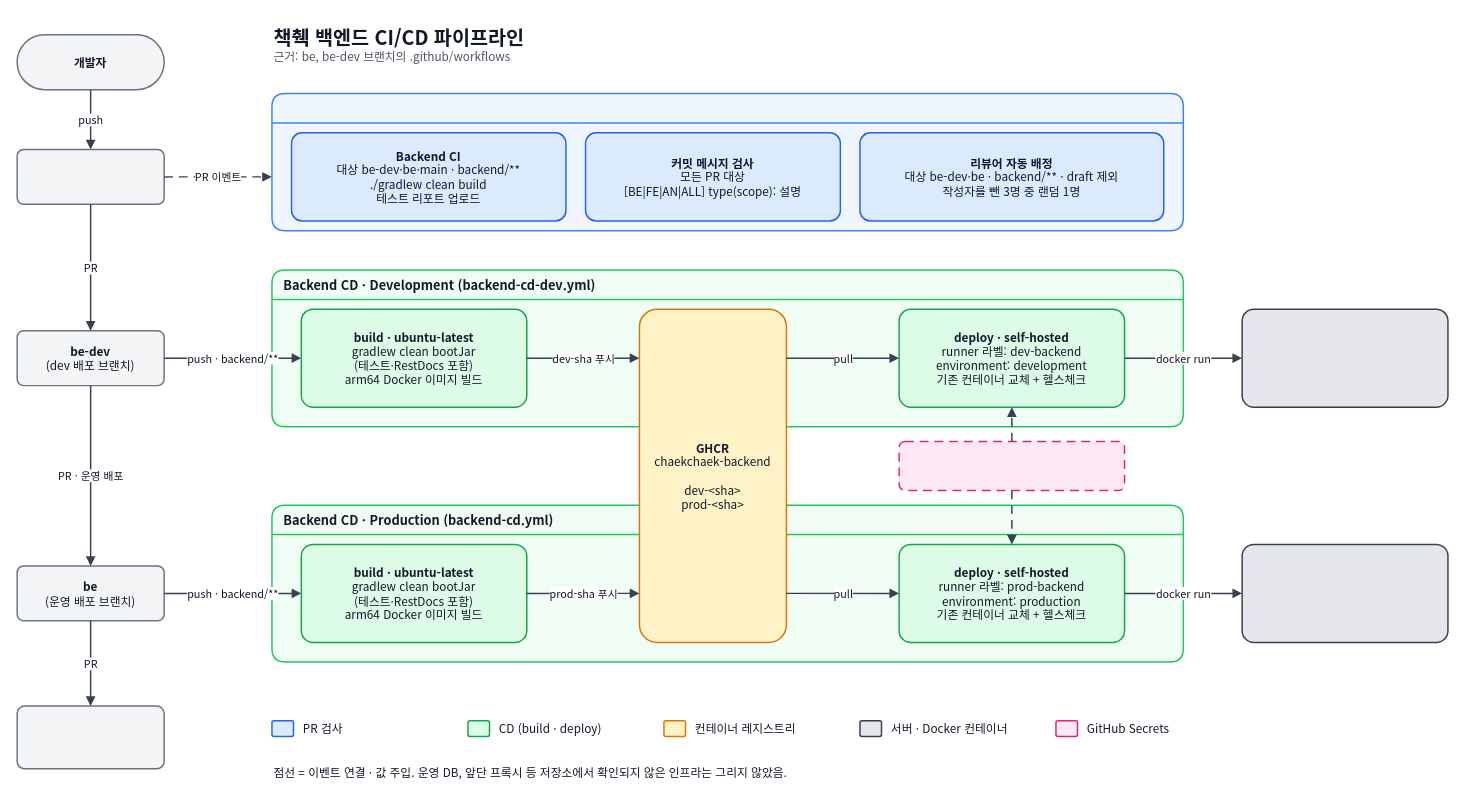
Image size: 1466x807. Some labels were removed from this diagram. The shapes that lost their labels are listed below. From the top down, each one's box as (x1, y1, x2, y2) in pixels, then its label:
(16, 148, 164, 205): feature 브랜치
(271, 92, 1184, 231): PR 검사 · GitHub Actions
(1241, 308, 1448, 407): dev 서버 · Docker chaekchaek-dev-backend dev-api.chaekchaek.com/health
(898, 440, 1125, 491): GitHub Secrets deploy에서 환경변수로 주입
(1241, 543, 1448, 643): prod 서버 · Docker chaekchaek-backend api.chaekchaek.com/health
(16, 705, 164, 769): main 병합 시 배포 없음
